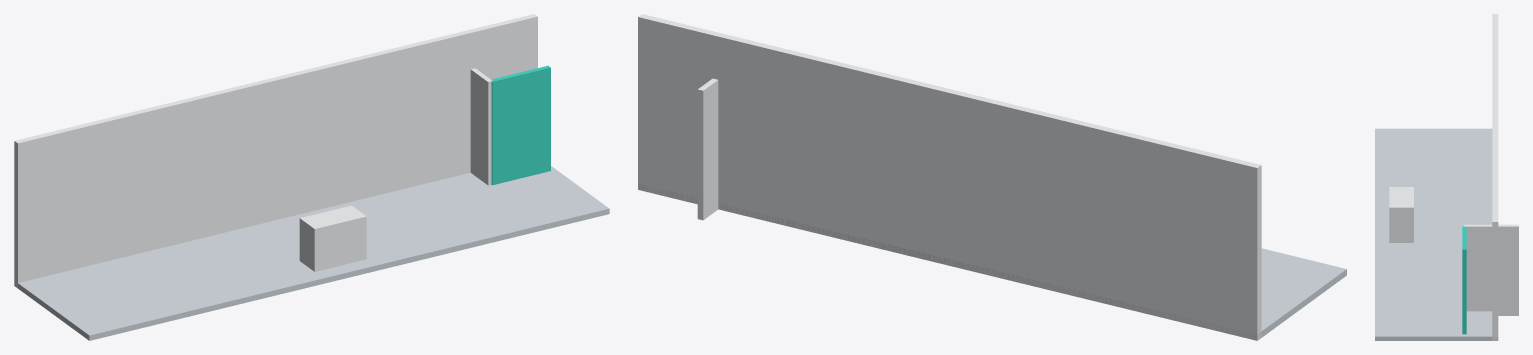
3 views of the same model, side by side, from view 1: azimuth 30°, elevation 25°; view 2: azimuth 150°, elevation 25°; view 3: azimuth 270°, elevation 25° (orthographic). The views are drawn at different scales.
Parts seen in each view (by area): view 1: Exhibition Booth Concept; view 2: Exhibition Booth Concept; view 3: Exhibition Booth Concept.
Boxes of the visible parts, box(x1,y1,x2,y2) form: Exhibition Booth Concept: box(14, 14, 609, 340); Exhibition Booth Concept: box(638, 14, 1346, 340); Exhibition Booth Concept: box(1375, 14, 1518, 340).
Size of the model in its own units: 12 by 3.2 by 3.51.
